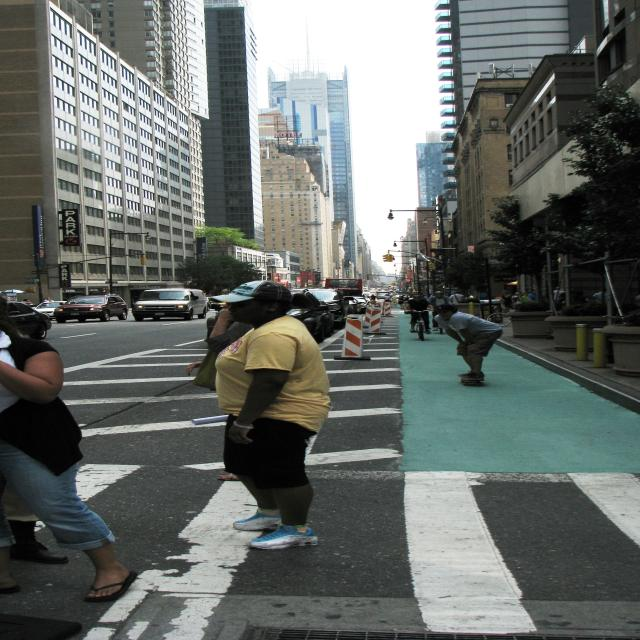body: (2, 299, 139, 604), (210, 279, 332, 551), (0, 483, 71, 596), (184, 302, 254, 390), (432, 303, 505, 381), (574, 288, 640, 326), (403, 293, 434, 335), (427, 291, 453, 331), (558, 284, 586, 306), (494, 290, 515, 316), (382, 286, 420, 296), (553, 287, 565, 311), (449, 290, 465, 304), (168, 292, 190, 300), (527, 287, 537, 304), (520, 291, 532, 303), (397, 295, 405, 310), (43, 296, 54, 306), (88, 297, 104, 303), (465, 292, 475, 300), (383, 294, 392, 302), (22, 299, 32, 306), (402, 294, 410, 301), (370, 294, 376, 302), (288, 282, 292, 288)
